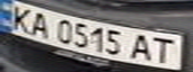0: (51, 16, 75, 45)
1: (87, 25, 106, 53)
5: (103, 27, 127, 57), (69, 20, 90, 50)
A: (127, 32, 157, 62), (24, 10, 54, 38)
K: (3, 2, 36, 34)
T: (148, 35, 181, 65)
